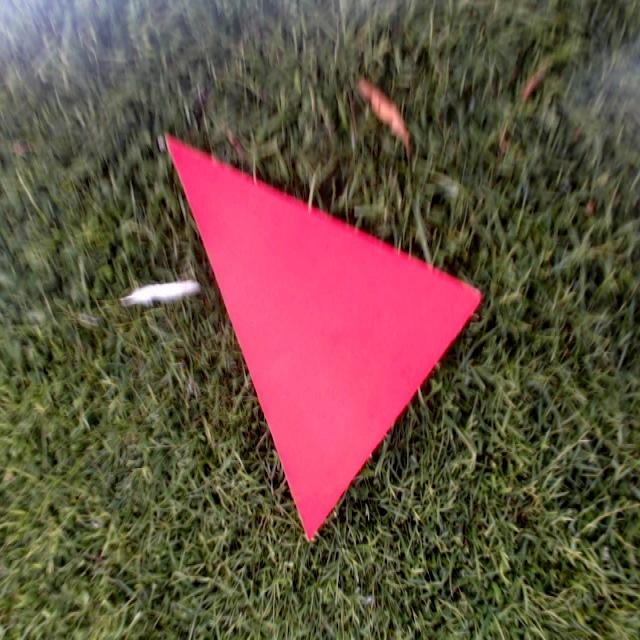red_triangle: (164, 135, 482, 541)
